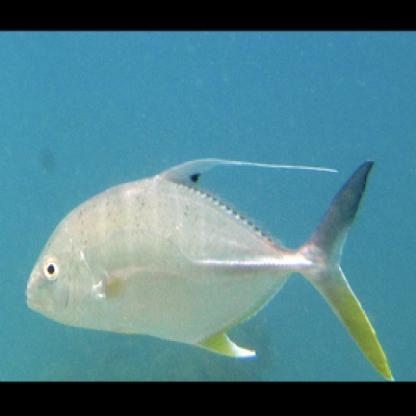jack: (19, 137, 395, 386)
